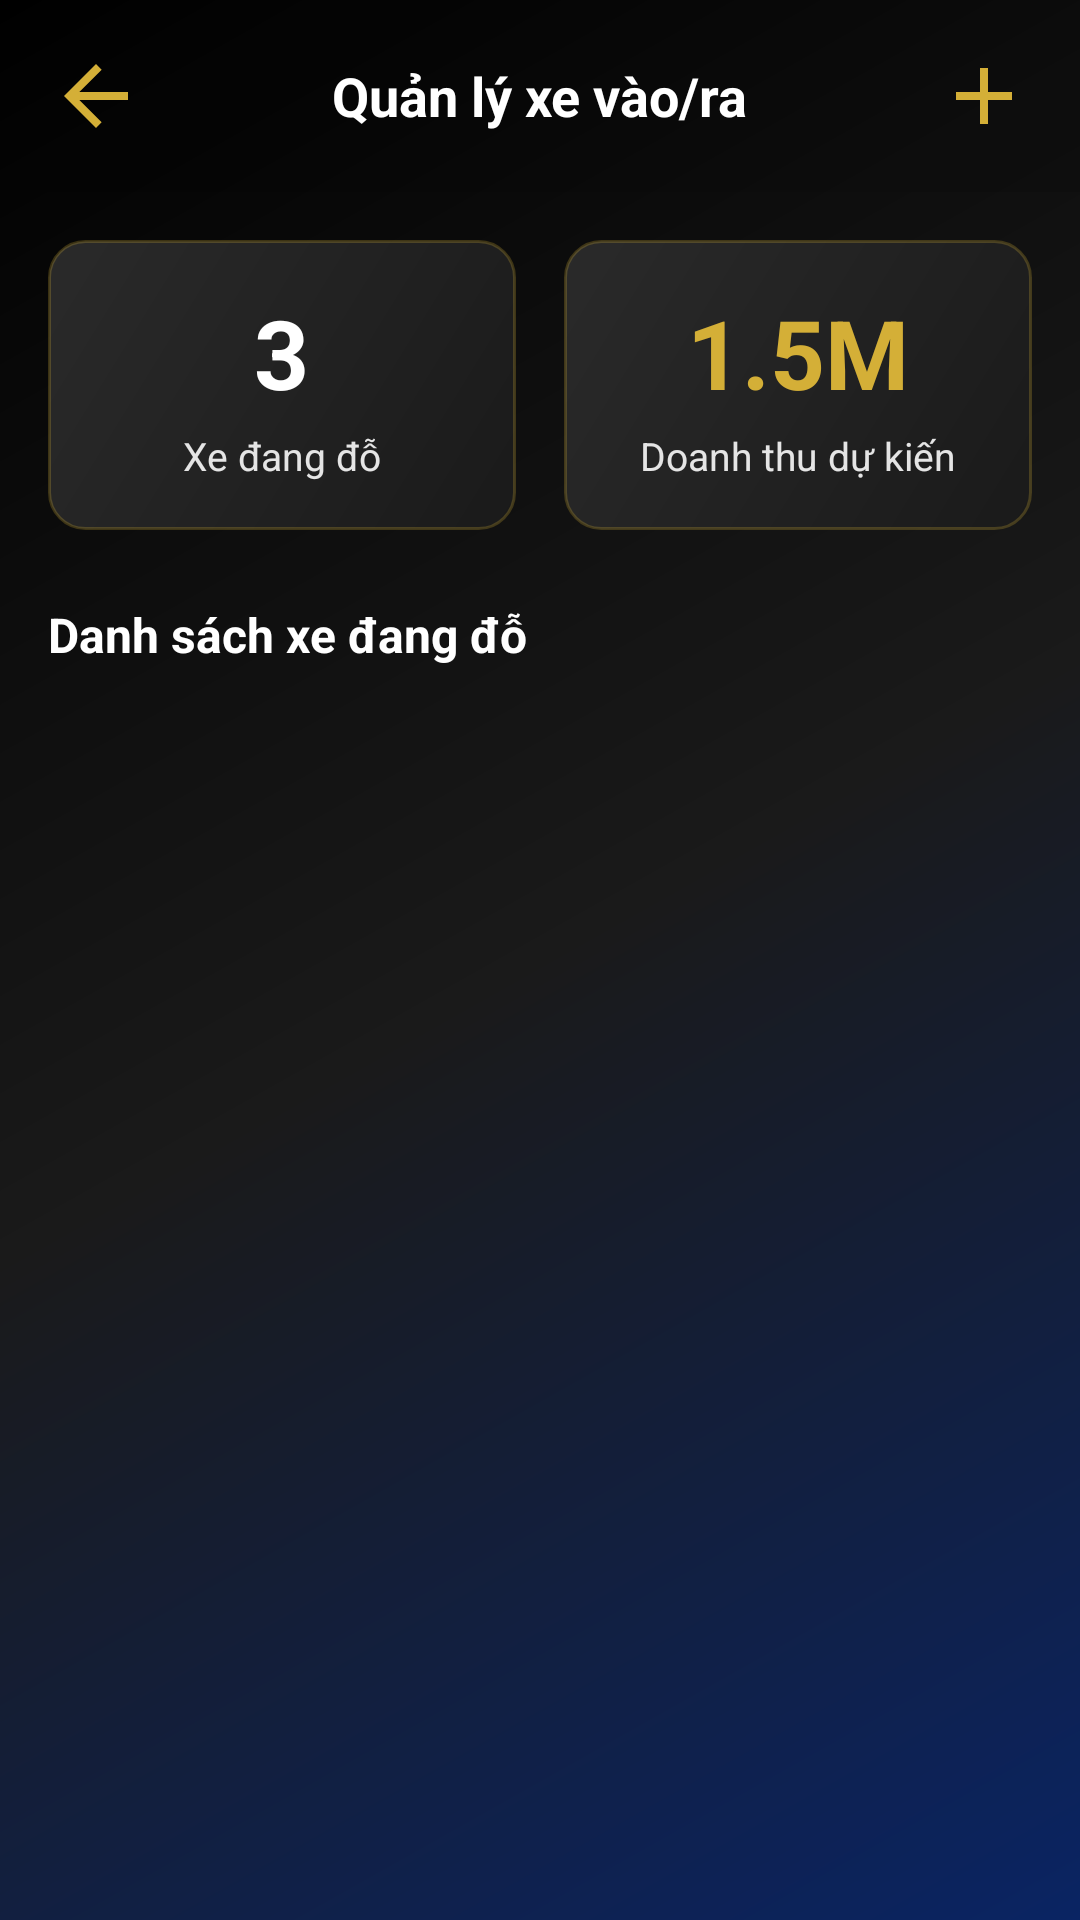

Icons on this 1080×1920 Android screen, each with the point to tap as (x,y):
Add car: (984,96)
Back: (96,96)
